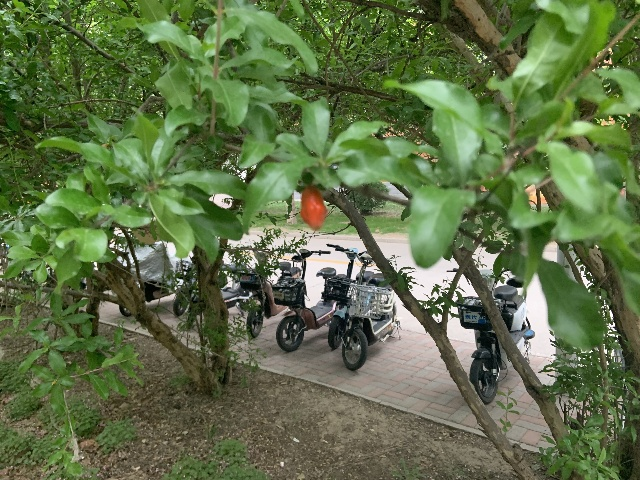bud: (299, 185, 328, 231)
